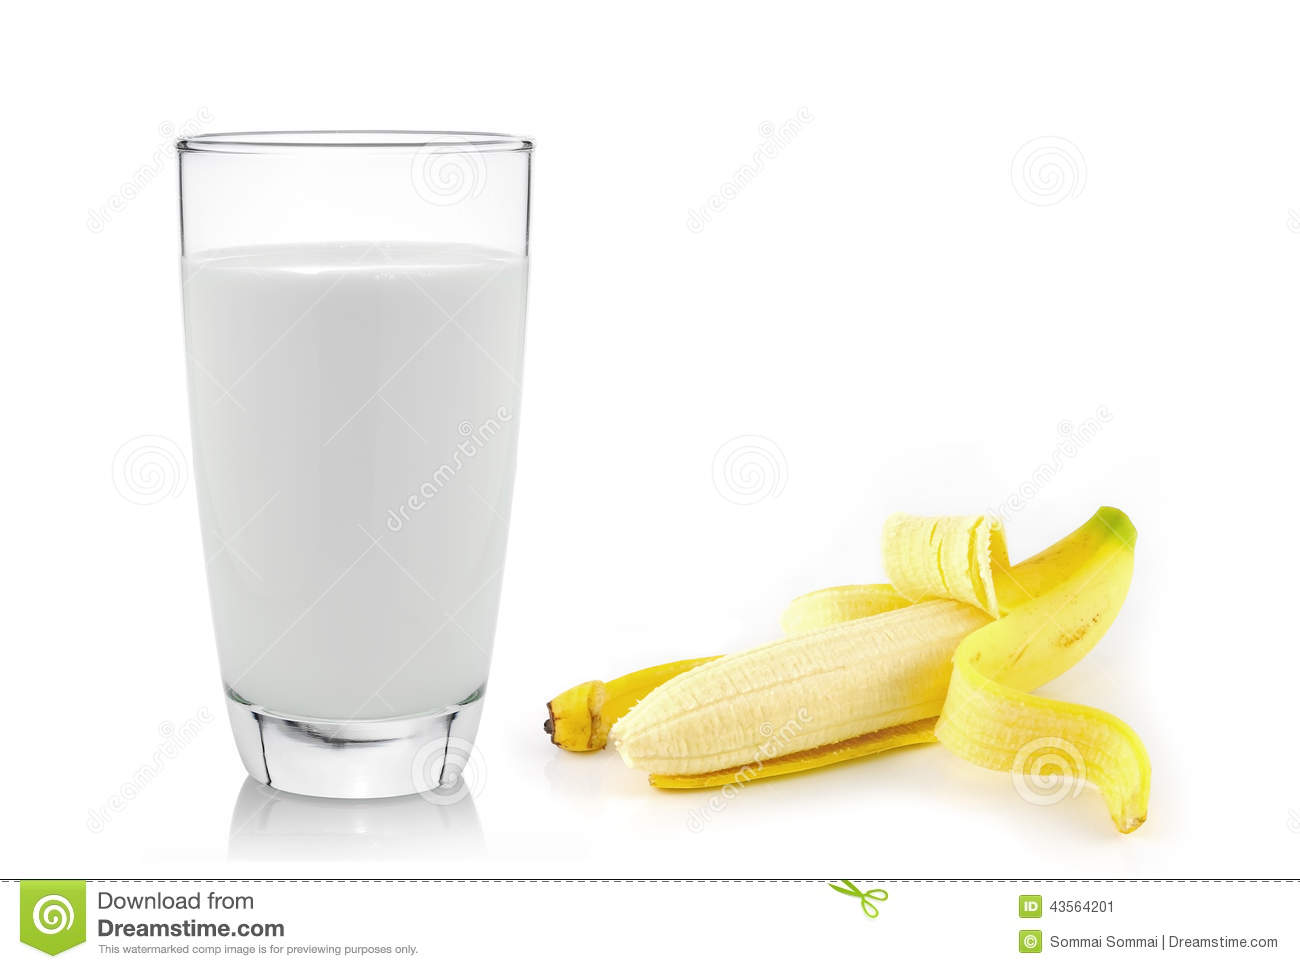glass of milk: (180, 144, 503, 784)
